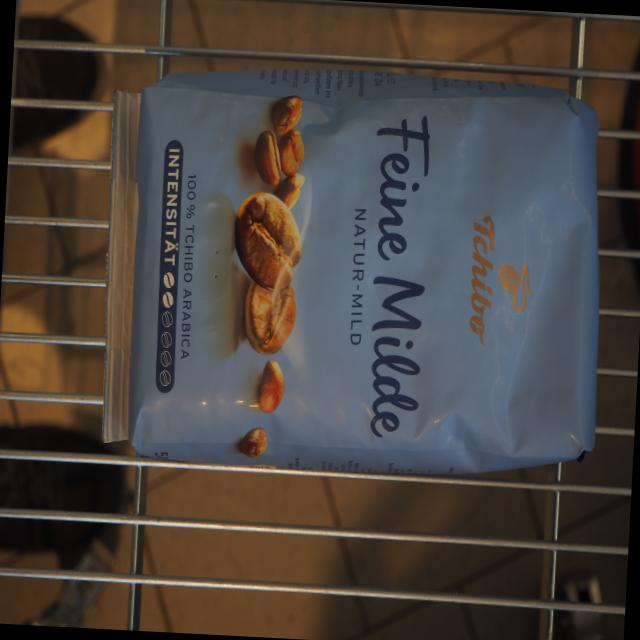FM Bohne: (92, 51, 618, 488)
